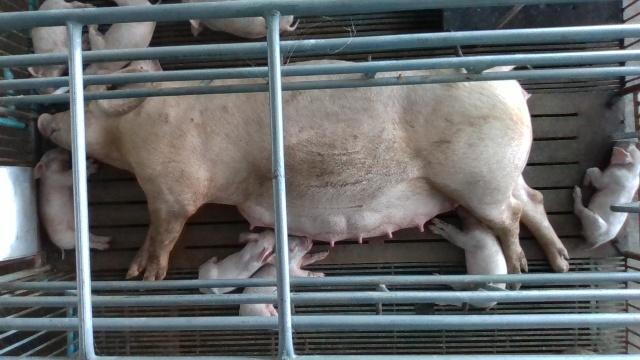piglet: (32, 147, 112, 260), (429, 204, 506, 309), (572, 141, 639, 251), (239, 237, 329, 317), (27, 0, 90, 93), (84, 0, 156, 75), (197, 230, 276, 295), (183, 0, 301, 36)
sow-sleep-lactate: (36, 61, 572, 292)
